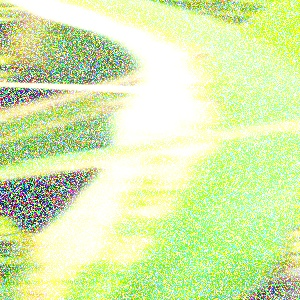Leaf_Blast: (118, 43, 297, 280)
